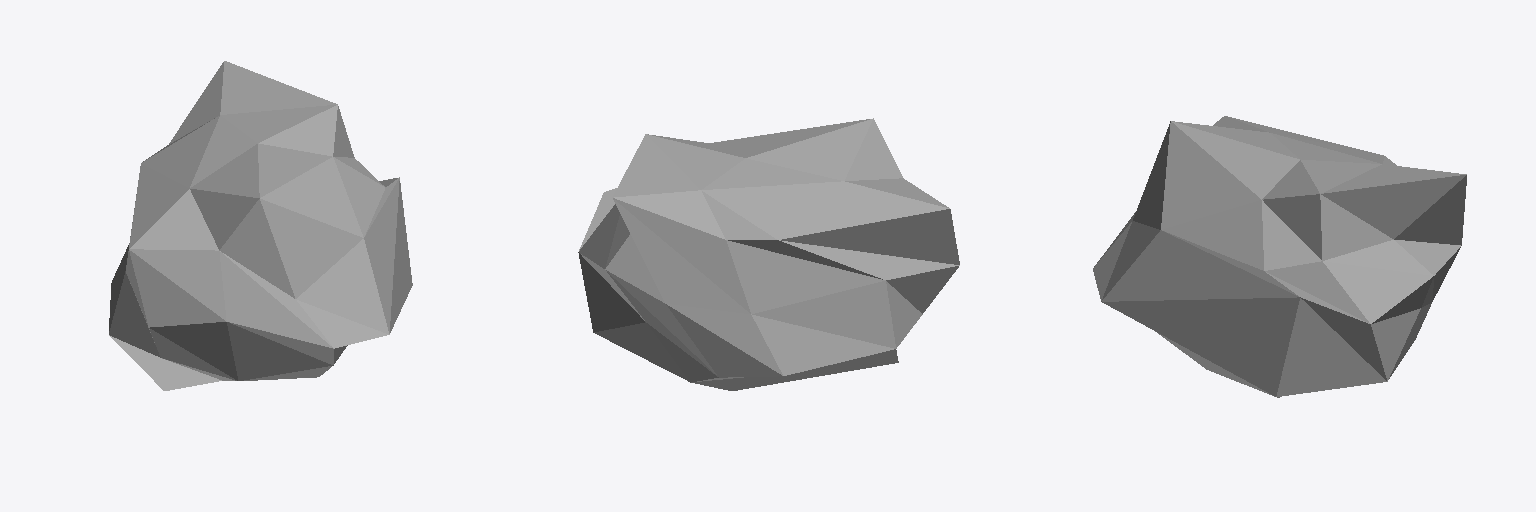
Rendered from rock3.obj.
3 views of the same model, side by side, from view 1: azimuth 30°, elevation 25°; view 2: azimuth 150°, elevation 25°; view 3: azimuth 270°, elevation 25° (orthographic).
Parts seen in each view (by area): view 1: Icosphere; view 2: Icosphere; view 3: Icosphere.
Boxes of the visible parts, x1=… form: Icosphere: x1=109, y1=61, x2=412, y2=390; Icosphere: x1=578, y1=118, x2=959, y2=390; Icosphere: x1=1093, y1=116, x2=1466, y2=397.
Size of the model in its own units: 4.2 by 2.9 by 4.4.